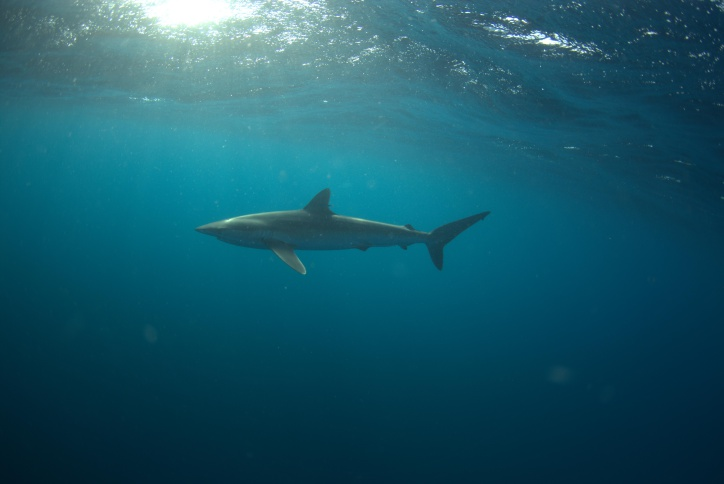Sedoso: (192, 180, 495, 304)
